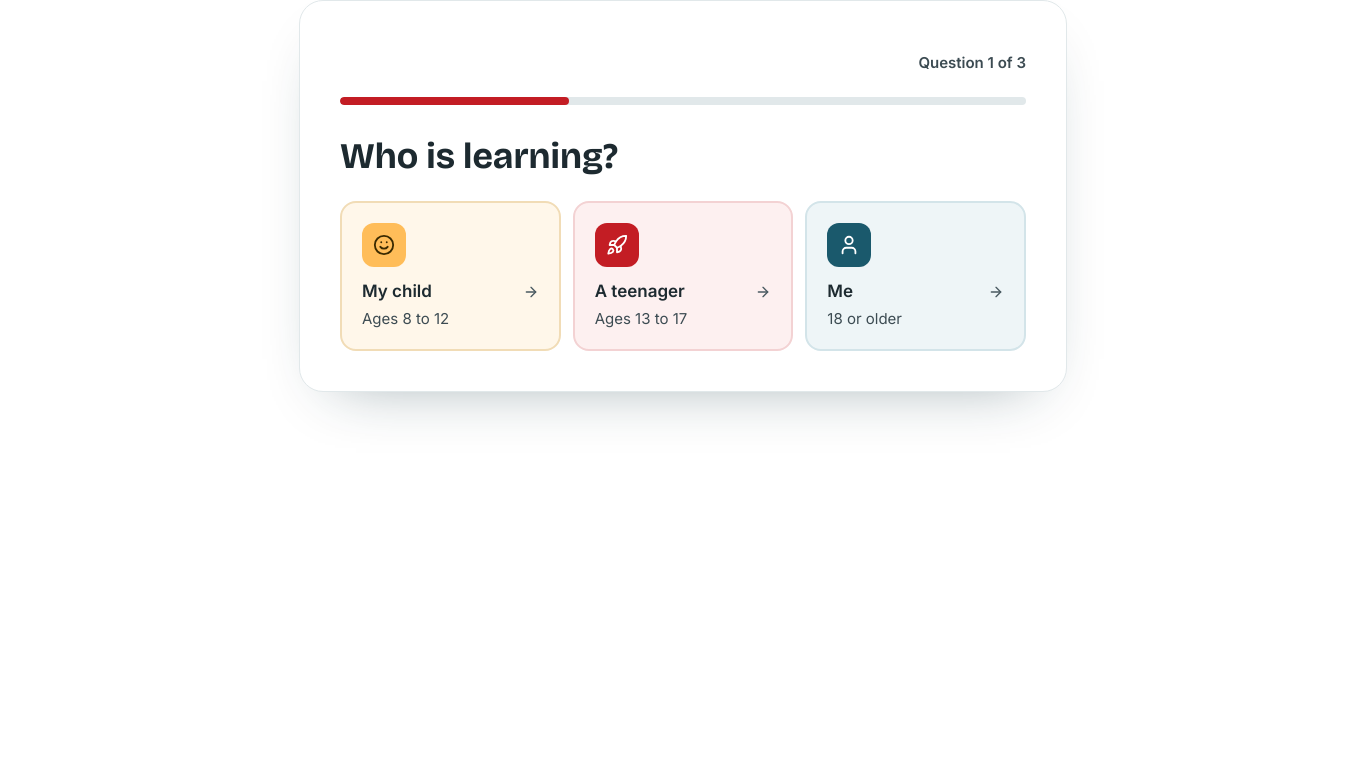
it: course finder › can go back and start again
This screenshot has width=1366, height=768.
Click the button "Me 18 or older": x=916, y=276 [805, 201, 1026, 351]
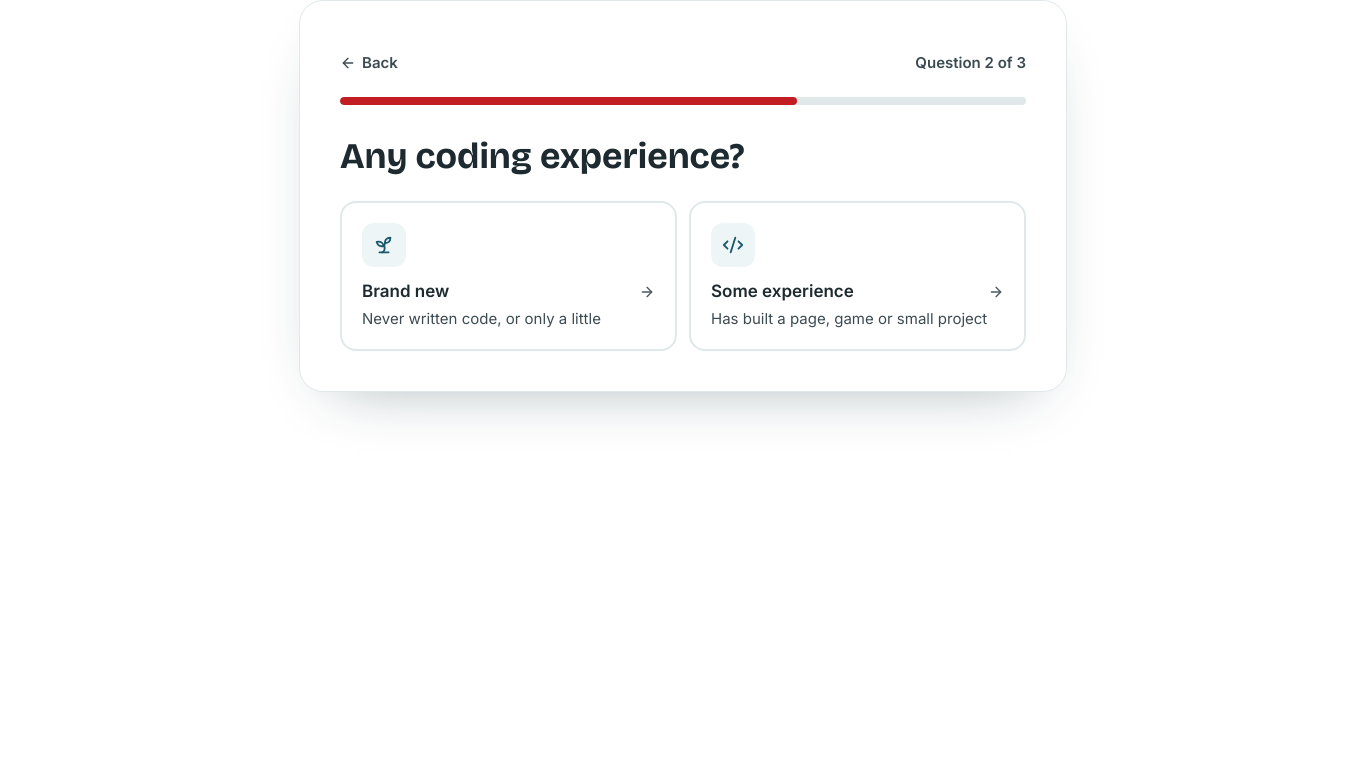
Click the button "Back": x=369, y=63 [332, 41, 406, 85]
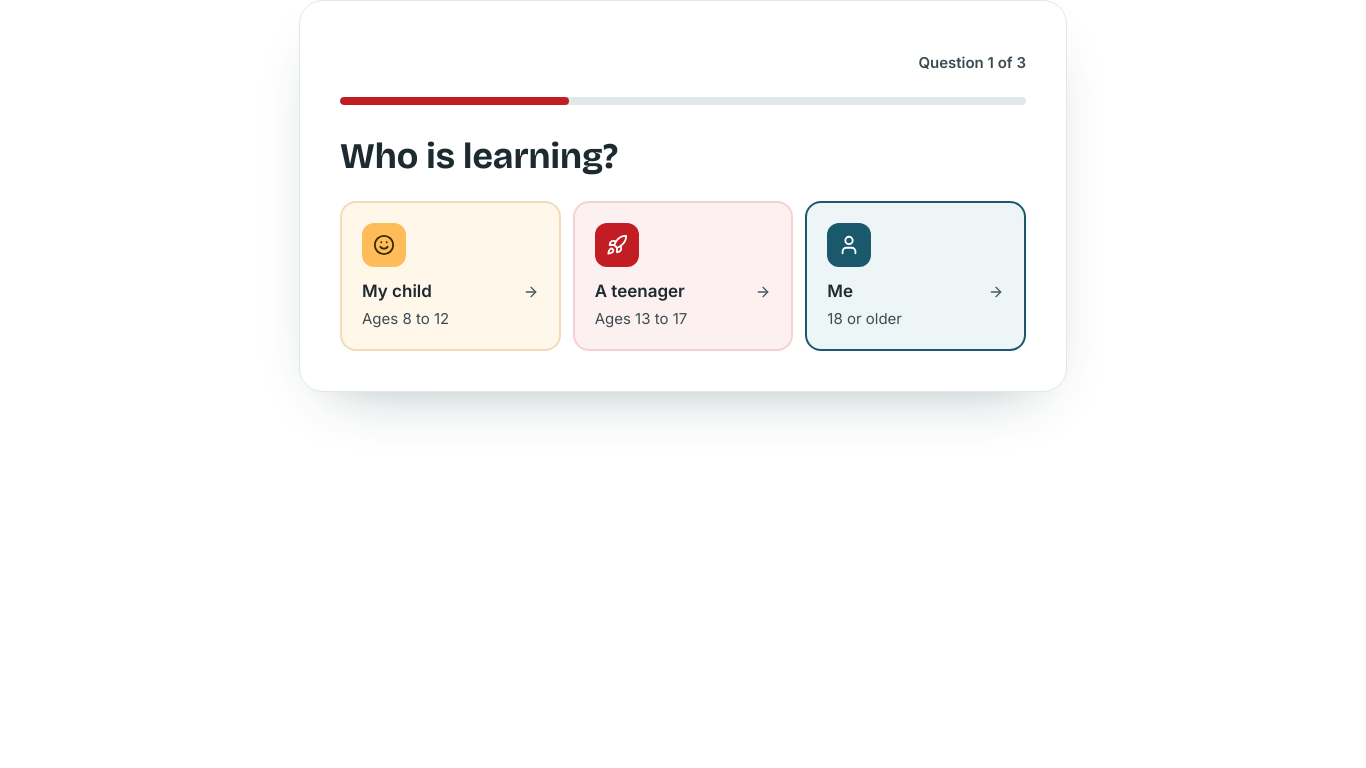
Result: the text "Who is learning?" is shown at [340, 135, 618, 178]
Click the button "Me 18 or older": x=916, y=276 [805, 201, 1026, 351]
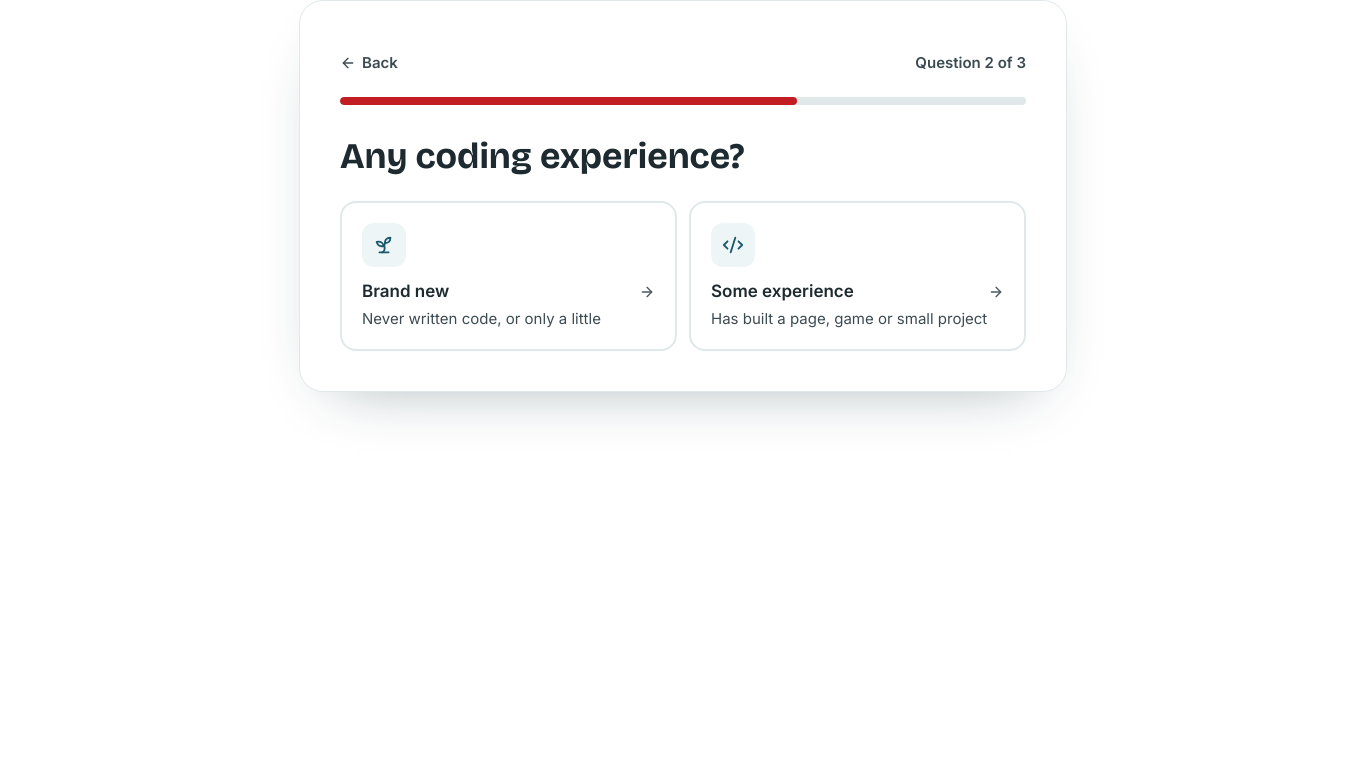
Click the button "Some experience Has built a page, game or small project": x=733, y=245 [689, 201, 1026, 351]
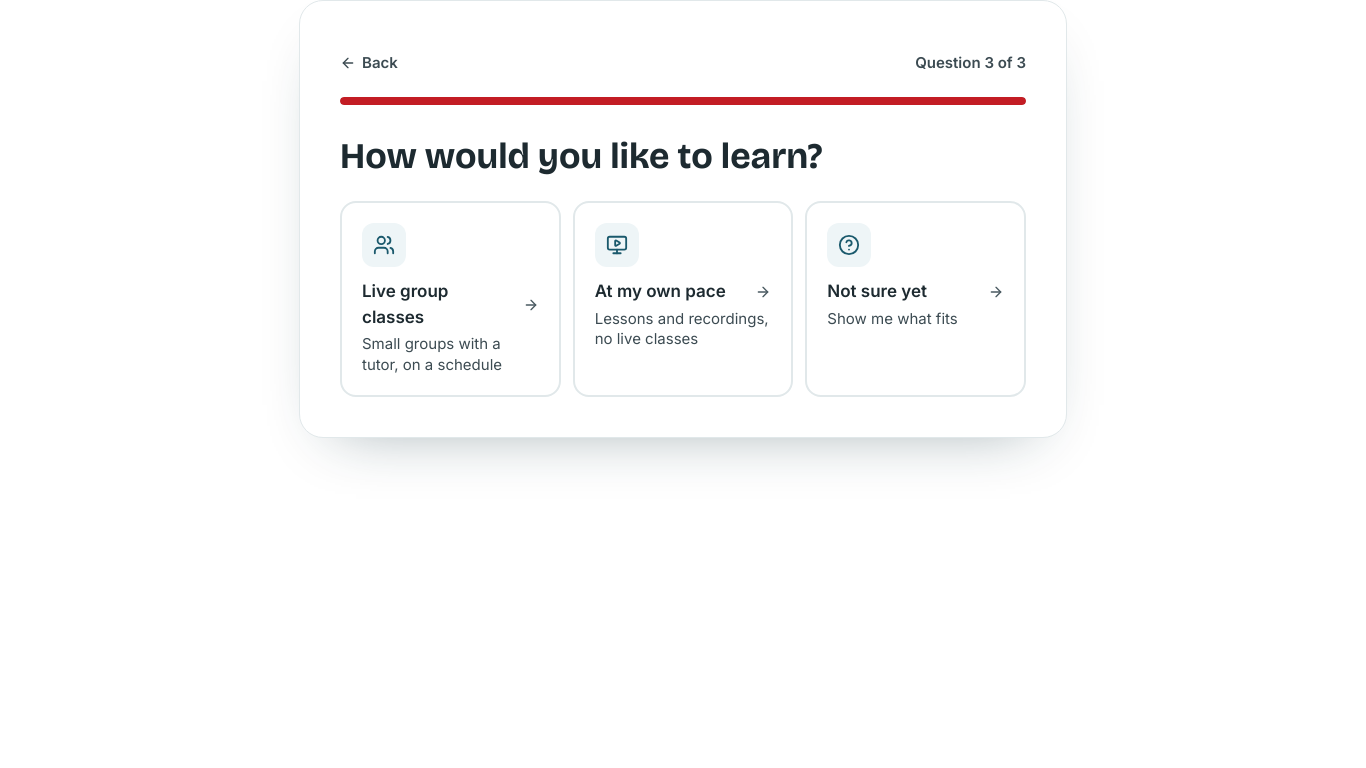
Click the button "Not sure yet Show me what fits": x=916, y=299 [805, 201, 1026, 397]
(page scrolled)
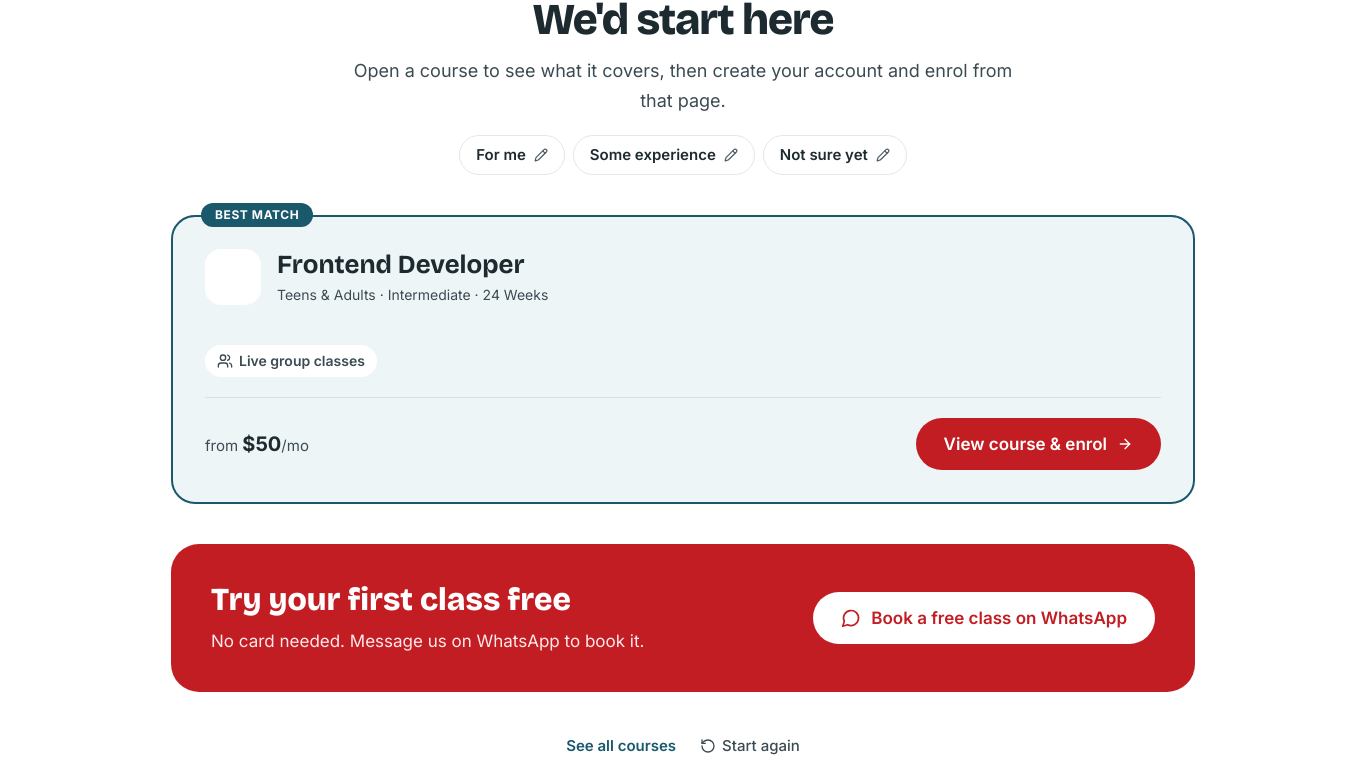
Click the button "Start again": x=750, y=746 [700, 724, 800, 767]
(page scrolled)
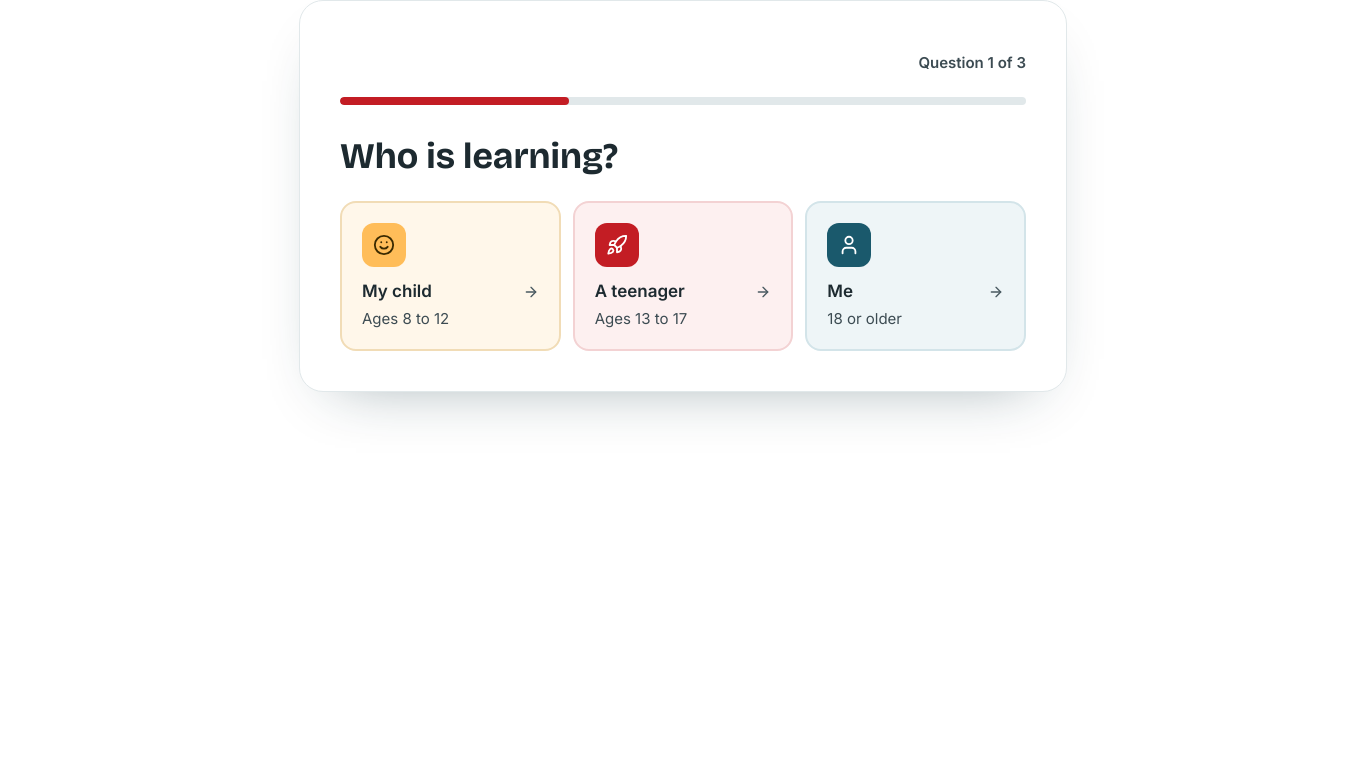
Result: the text "Who is learning?" is shown at [340, 135, 618, 178]
